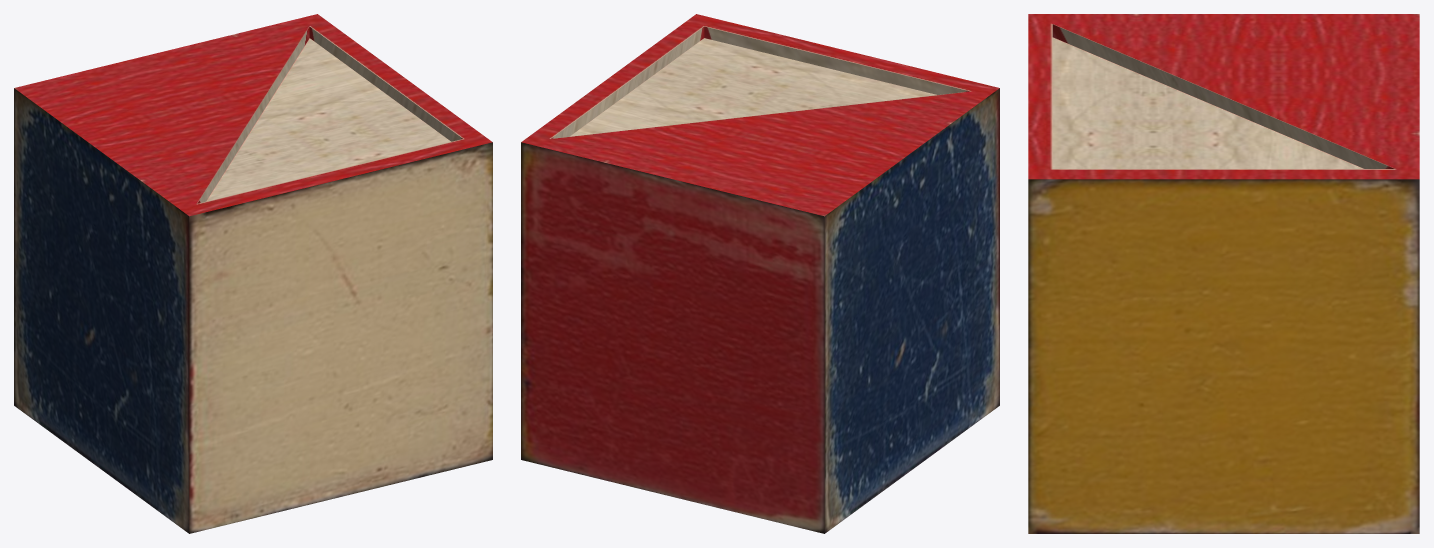
The model's file is color-cube.glb.
3 views of the same model, side by side, from view 1: azimuth 30°, elevation 25°; view 2: azimuth 150°, elevation 25°; view 3: azimuth 270°, elevation 25° (orthographic). The views are drawn at different scales.
Parts seen in each view (by area): view 1: ColorCube; view 2: ColorCube; view 3: ColorCube.
Boxes of the visible parts, x1=… form: ColorCube: x1=14, y1=14, x2=492, y2=533; ColorCube: x1=521, y1=14, x2=999, y2=533; ColorCube: x1=1028, y1=14, x2=1419, y2=533.
Bounding box in the file's own units: 0.0275 × 0.0275 × 0.0275.
1 material, 1 textured.
